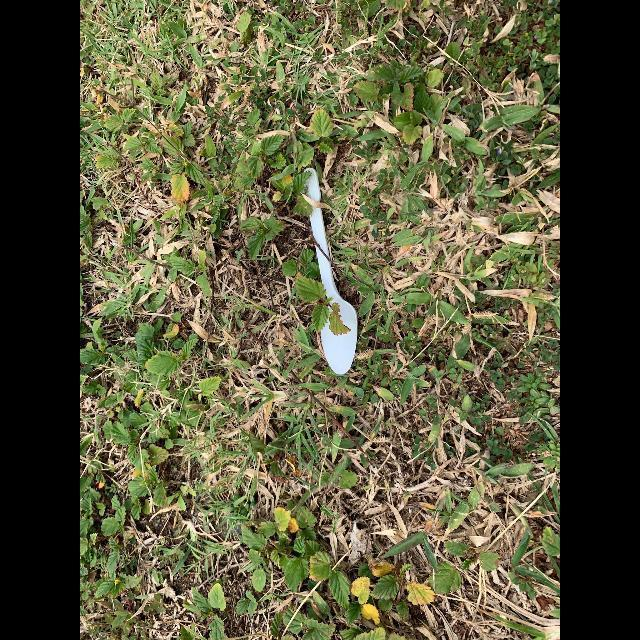Plastic: (303, 167, 357, 373)
